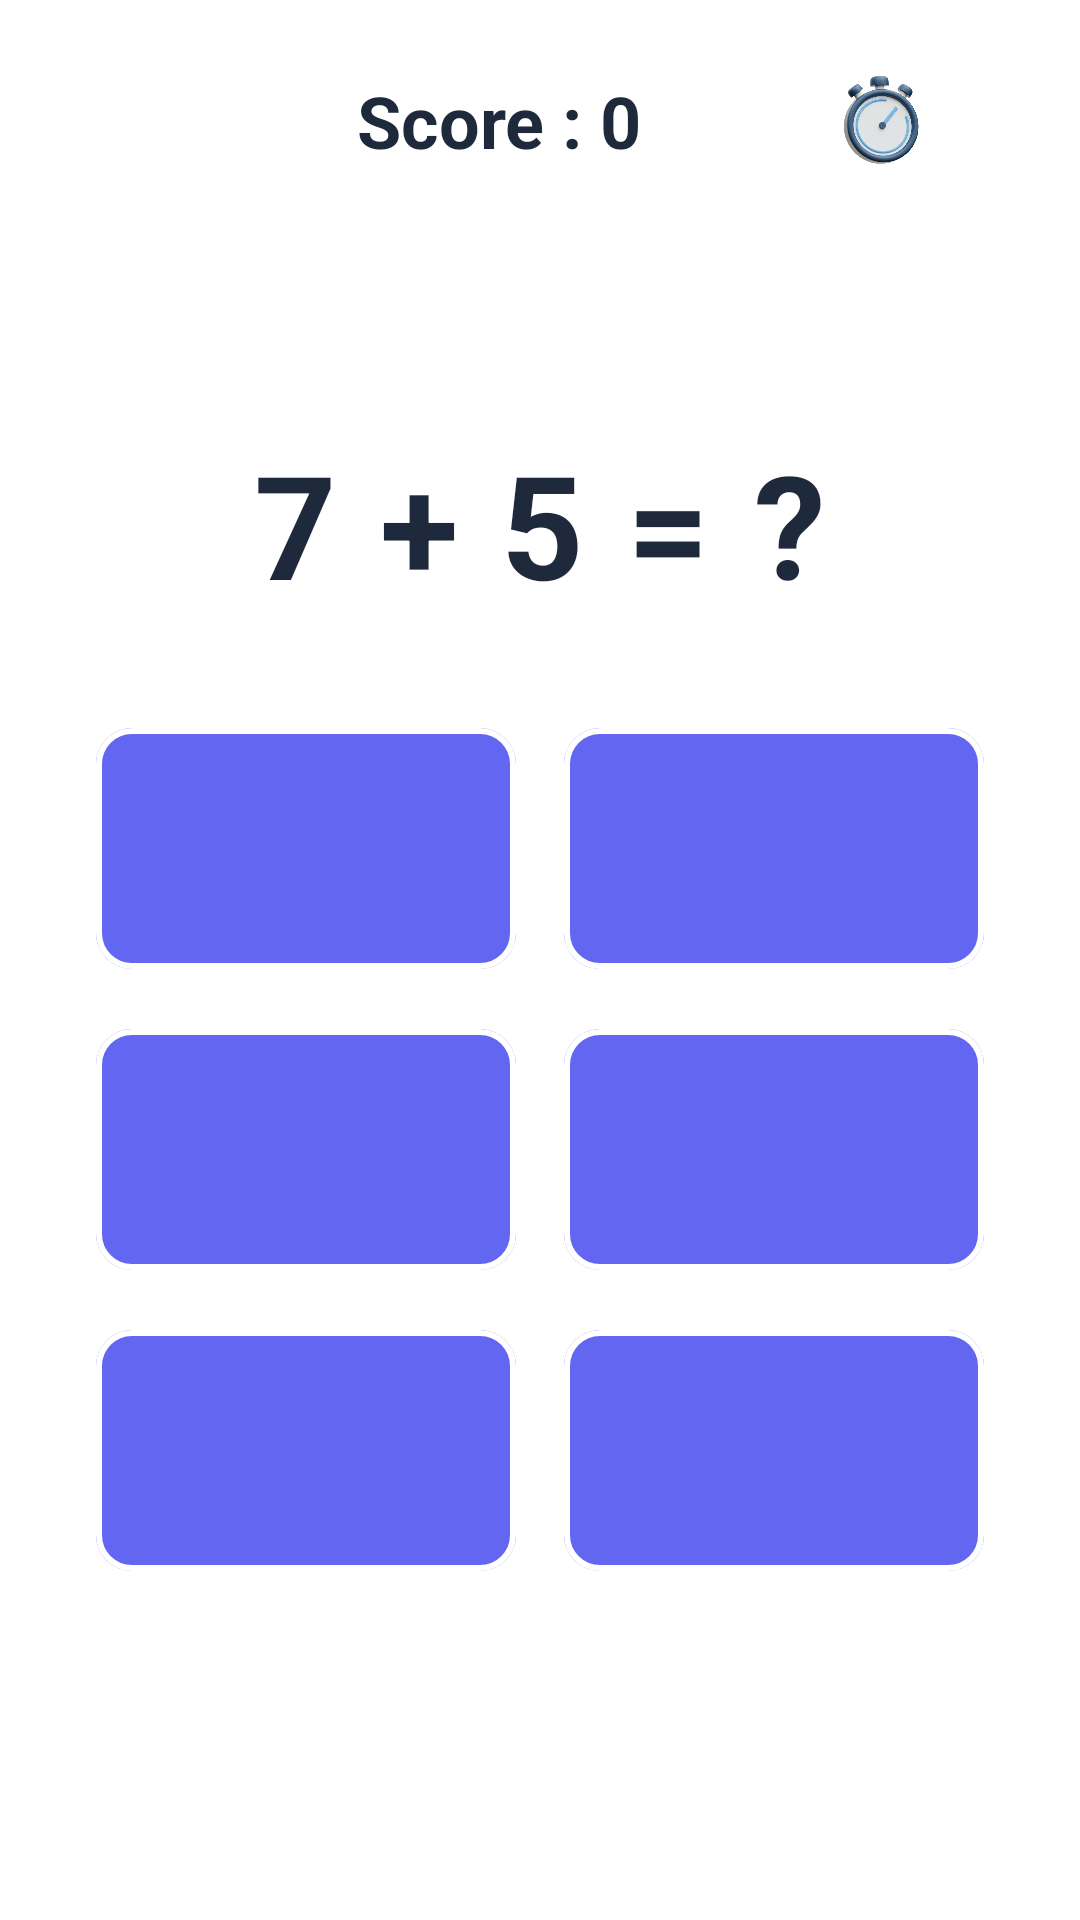

Icons on this 1080×1920 Android screen, each with the point to tap as [x,y]:
timer: [881,120]
